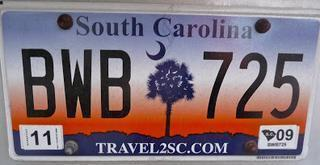placa de veiculo: (4, 4, 310, 162)
